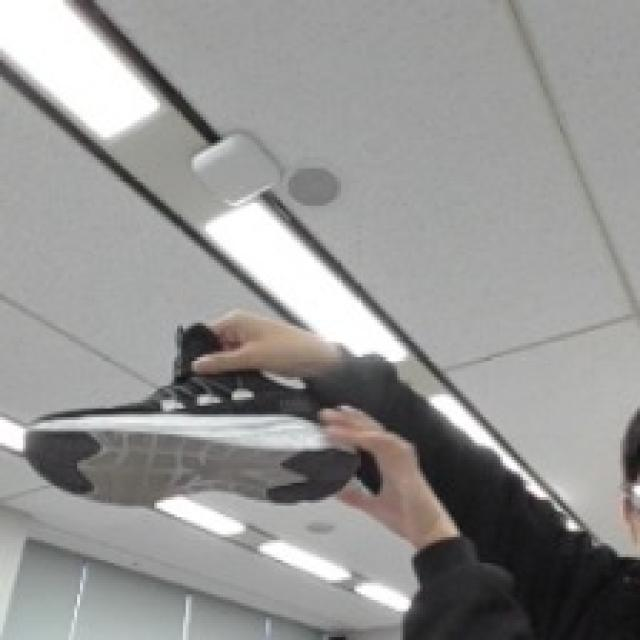shoe: (19, 309, 365, 506)
